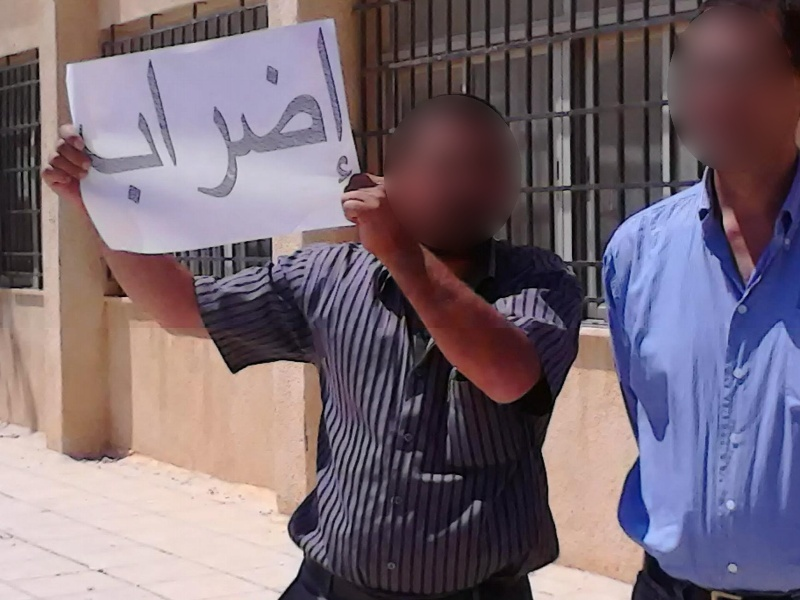text: (81, 25, 96, 216), (97, 25, 112, 216), (113, 25, 128, 216), (129, 25, 144, 216), (145, 25, 160, 216), (161, 25, 176, 216), (177, 25, 192, 216), (193, 25, 208, 216), (209, 25, 224, 216), (225, 25, 240, 216), (241, 25, 256, 216), (257, 25, 272, 216), (273, 25, 288, 216), (289, 25, 304, 216), (305, 25, 320, 216), (321, 25, 336, 216), (337, 25, 352, 216), (69, 25, 80, 216), (353, 25, 359, 216)
